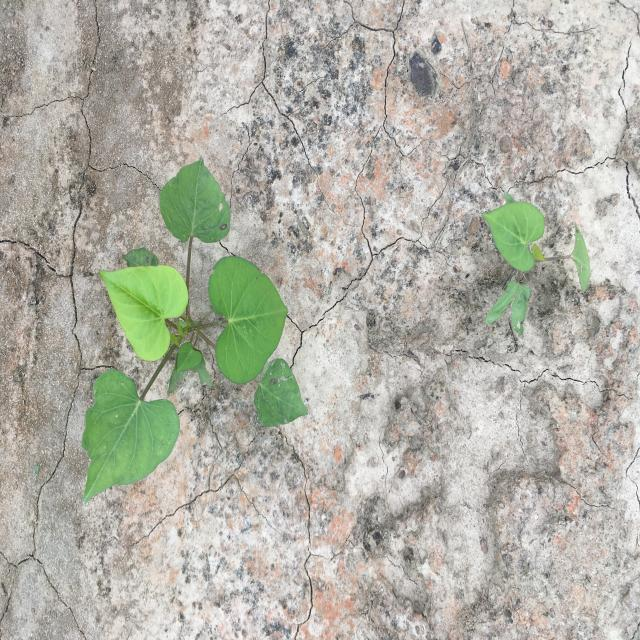MorningGlory: (82, 156, 309, 504), (482, 191, 592, 335)
